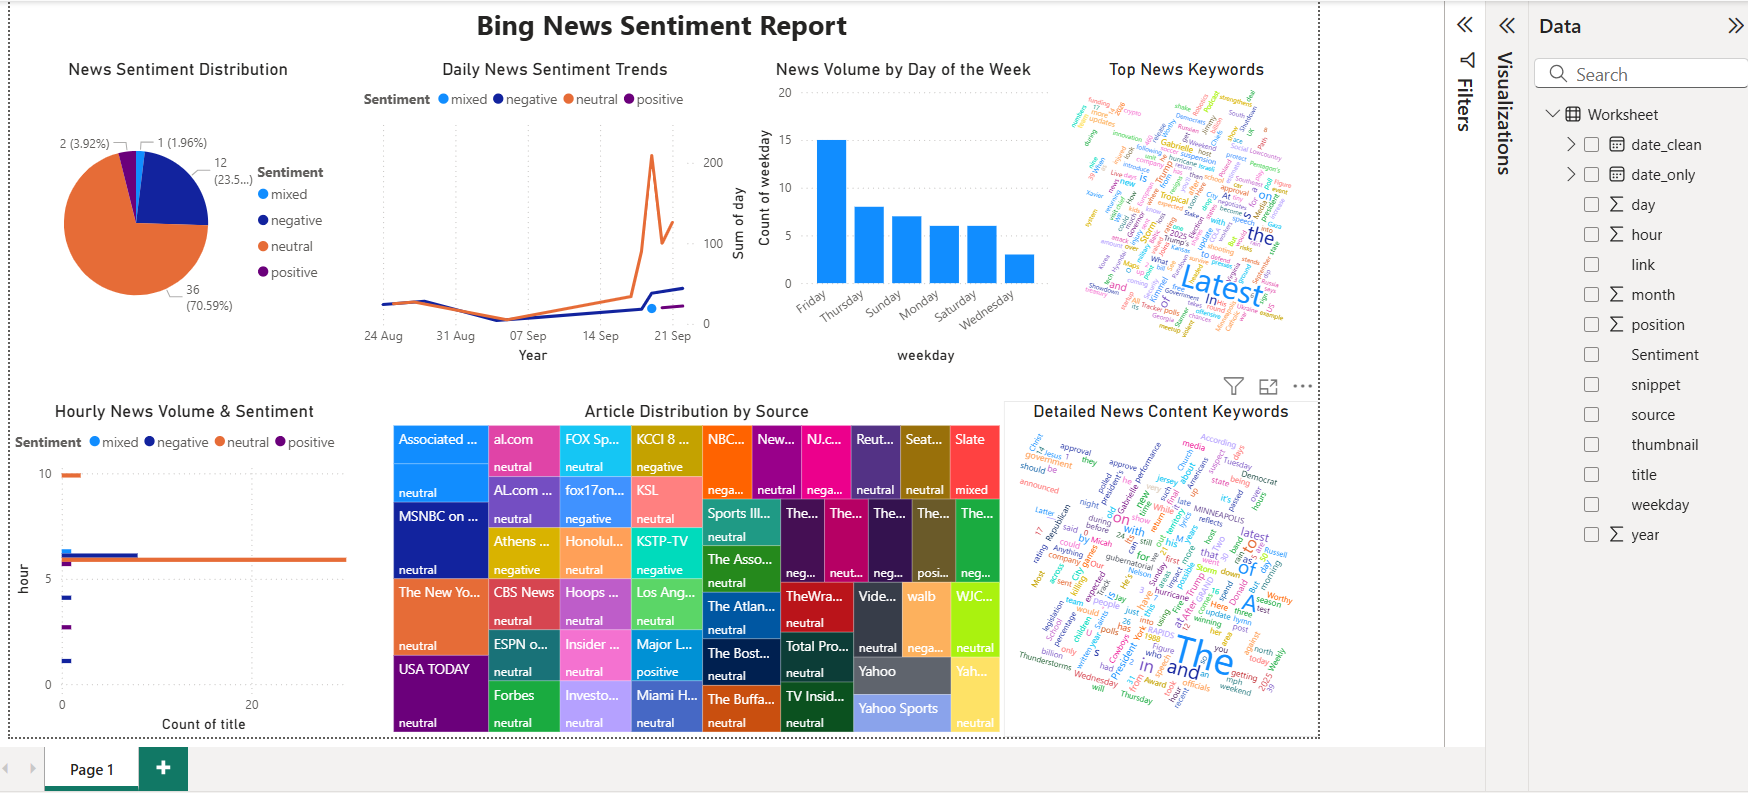

The page's visual inventory and layout, read from the dashboard file:
{"tool":"powerbi","page":{"name":"Page 1","canvas":[1280,720],"ordinal":0},"visuals":[{"type":"pieChart","title":"News Sentiment Distribution","fields":{"Y":["Worksheet.Sentiment"],"Series":["Worksheet.Sentiment"]},"box":[0,56.3,328.9,303.3],"z":0},{"type":"textbox","box":[451.5,0,382.8,56.3],"z":1000},{"type":"lineChart","title":"Daily News Sentiment Trends","fields":{"Series":["Worksheet.Sentiment"],"Category":["Worksheet.date_only.Variation.Date Hierarchy.Year","Worksheet.date_only.Variation.Date Hierarchy.Quarter","Worksheet.date_only.Variation.Date Hierarchy.Month","Worksheet.date_only.Variation.Date Hierarchy.Day"],"Y2":["Worksheet.day"]},"box":[341.2,56.3,384,303.3],"z":2000},{"type":"clusteredBarChart","title":"Hourly News Volume & Sentiment","fields":{"Category":["Worksheet.hour"],"Y":["Worksheet.title"],"Series":["Worksheet.Sentiment"]},"box":[0,391.3,341.2,328.9],"z":3000},{"type":"columnChart","title":"News Volume by Day of the Week","fields":{"Category":["Worksheet.weekday"],"Y":["Worksheet.weekday"]},"box":[725,56.2,297.5,303.8],"z":4000},{"type":"WordCloud1447959067750","title":"Top News Keywords","fields":{"Category":["Worksheet.title"],"Values":["Worksheet.title"]},"box":[1022.5,56.2,257.5,303.8],"z":5000},{"type":"treemap","title":"Article Distribution by Source","fields":{"Details":["Worksheet.Sentiment"],"Group":["Worksheet.source"],"Values":["Worksheet.source"]},"box":[370.5,391.3,602.9,328.9],"z":6000},{"type":"WordCloud1447959067750","title":"Detailed News Content Keywords","fields":{"Category":["Worksheet.snippet"]},"box":[972.5,391.2,307.5,328.8],"z":7000}]}

Visuals, with their boxes in screenshot pixels (x1, y1, x2, y2):
"News Sentiment Distribution" pieChart: BBox(387, 75, 744, 404)
textbox: BBox(877, 14, 1292, 75)
"Daily News Sentiment Trends" lineChart: BBox(757, 75, 1174, 404)
"Hourly News Volume & Sentiment" clusteredBarChart: BBox(387, 438, 757, 792)
"News Volume by Day of the Week" columnChart: BBox(1173, 75, 1496, 404)
"Top News Keywords" WordCloud1447959067750: BBox(1496, 75, 1747, 404)
"Article Distribution by Source" treemap: BBox(789, 438, 1443, 792)
"Detailed News Content Keywords" WordCloud1447959067750: BBox(1442, 438, 1747, 792)
